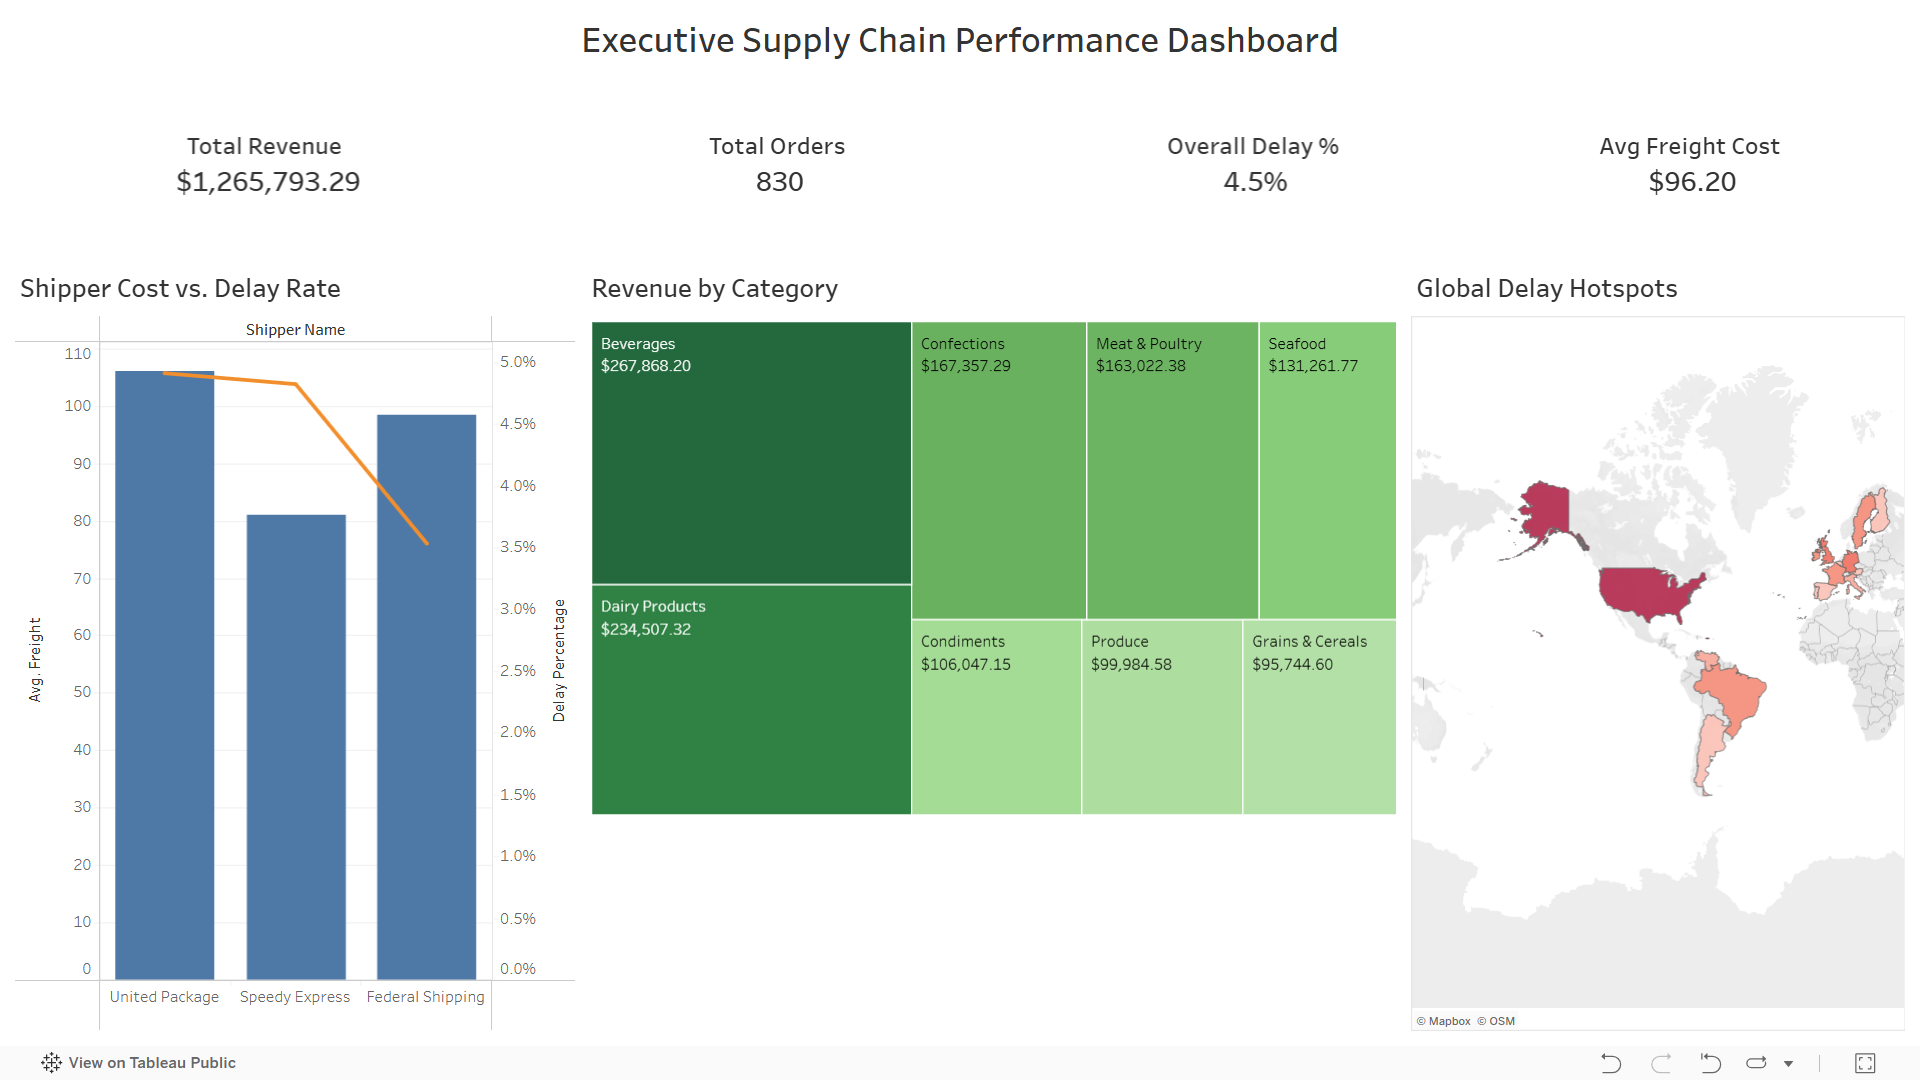

This screenshot's page, from the dashboard's own definition file:
{"tool":"tableau","page":{"name":"Final Dashboard","canvas":[1000,1000],"units":"permille","ordinal":0},"visuals":[{"type":"title","box":[6.1,14.6,987.8,84.1]},{"type":"worksheet","title":"KPI - Revenue","mark":"Automatic","box":[6.1,98.7,266.4,149.9]},{"type":"worksheet","title":"KPI - Orders","mark":"Automatic","box":[272.5,98.7,266.5,149.9]},{"type":"worksheet","title":"KPI - Delay Rate","mark":"Automatic","box":[539.1,98.7,227.7,149.9]},{"type":"worksheet","title":"KPI - Freight","mark":"Automatic","box":[766.8,98.7,227.1,149.9]},{"type":"worksheet","title":"Chart - Shipper","mark":"Automatic","rows":["freight","Calculation_0014625329938445"],"cols":["shipperName"],"box":[6.1,248.6,297,736.8]},{"type":"worksheet","title":"Chart - Treemap","mark":"Square","box":[303.1,248.6,428.8,736.8]},{"type":"worksheet","title":"Chart - Map","mark":"Multipolygon","box":[731.9,248.6,262,736.8]}]}

Visuals, with their boxes on the dashboard's canvas, which has no fixed pixel size, in thousandths of its width and height (x1, y1, x2, y2). These are canvas units, not pixel positions in the 1920x1080 screenshot, which may show the page scaled, cropped or inside an application window:
title: select_region(6, 15, 994, 99)
"KPI - Revenue" worksheet: select_region(6, 99, 272, 249)
"KPI - Orders" worksheet: select_region(272, 99, 539, 249)
"KPI - Delay Rate" worksheet: select_region(539, 99, 767, 249)
"KPI - Freight" worksheet: select_region(767, 99, 994, 249)
"Chart - Shipper" worksheet: select_region(6, 249, 303, 985)
"Chart - Treemap" worksheet (Square marks): select_region(303, 249, 732, 985)
"Chart - Map" worksheet (Multipolygon marks): select_region(732, 249, 994, 985)
